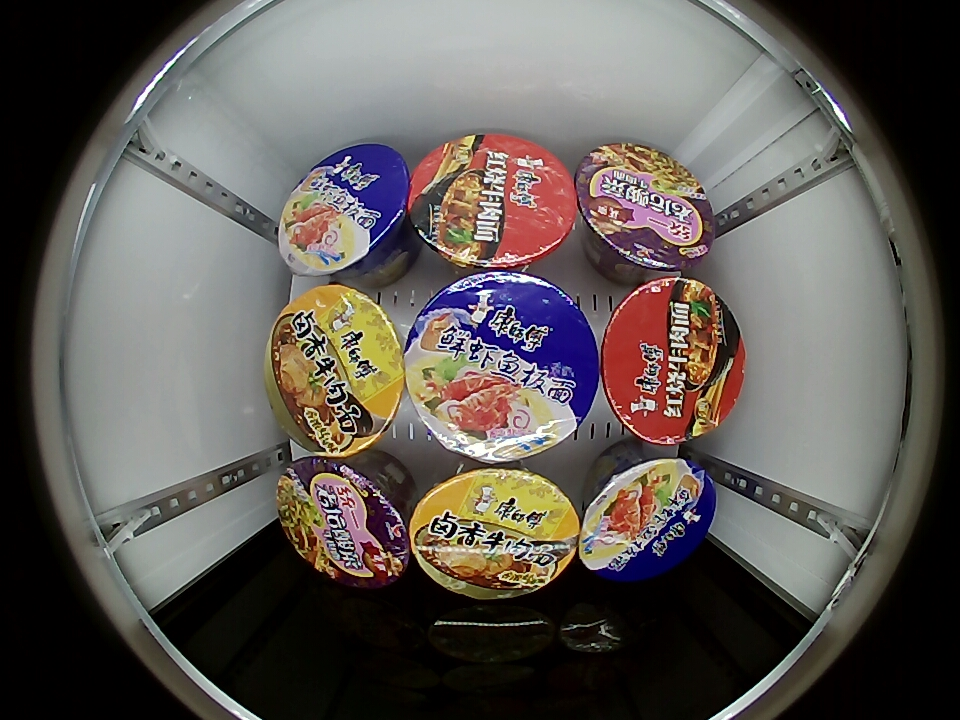hongshaoniurou: (600, 276, 745, 444), (406, 134, 578, 270)
laotansuancai: (574, 141, 715, 274), (275, 456, 413, 588)
luxiangniurou: (265, 284, 406, 457), (410, 466, 581, 600)
xianxiayuban: (402, 271, 601, 462), (278, 143, 412, 276), (578, 455, 717, 580)
